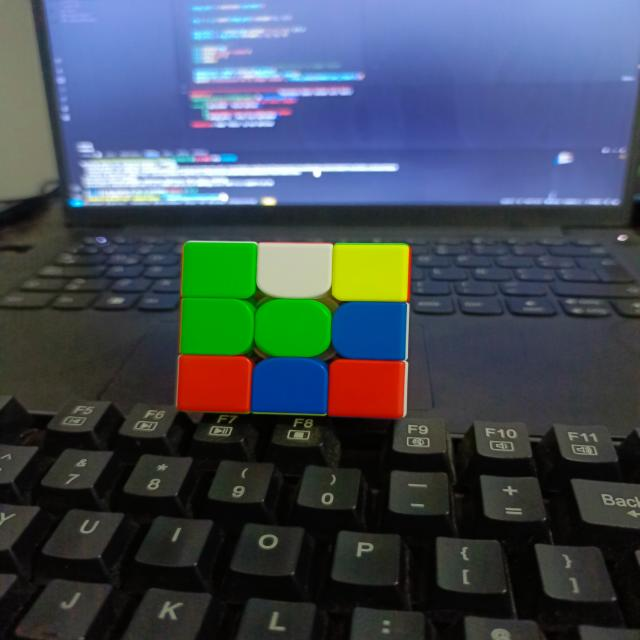rubik: (175, 239, 412, 419)
